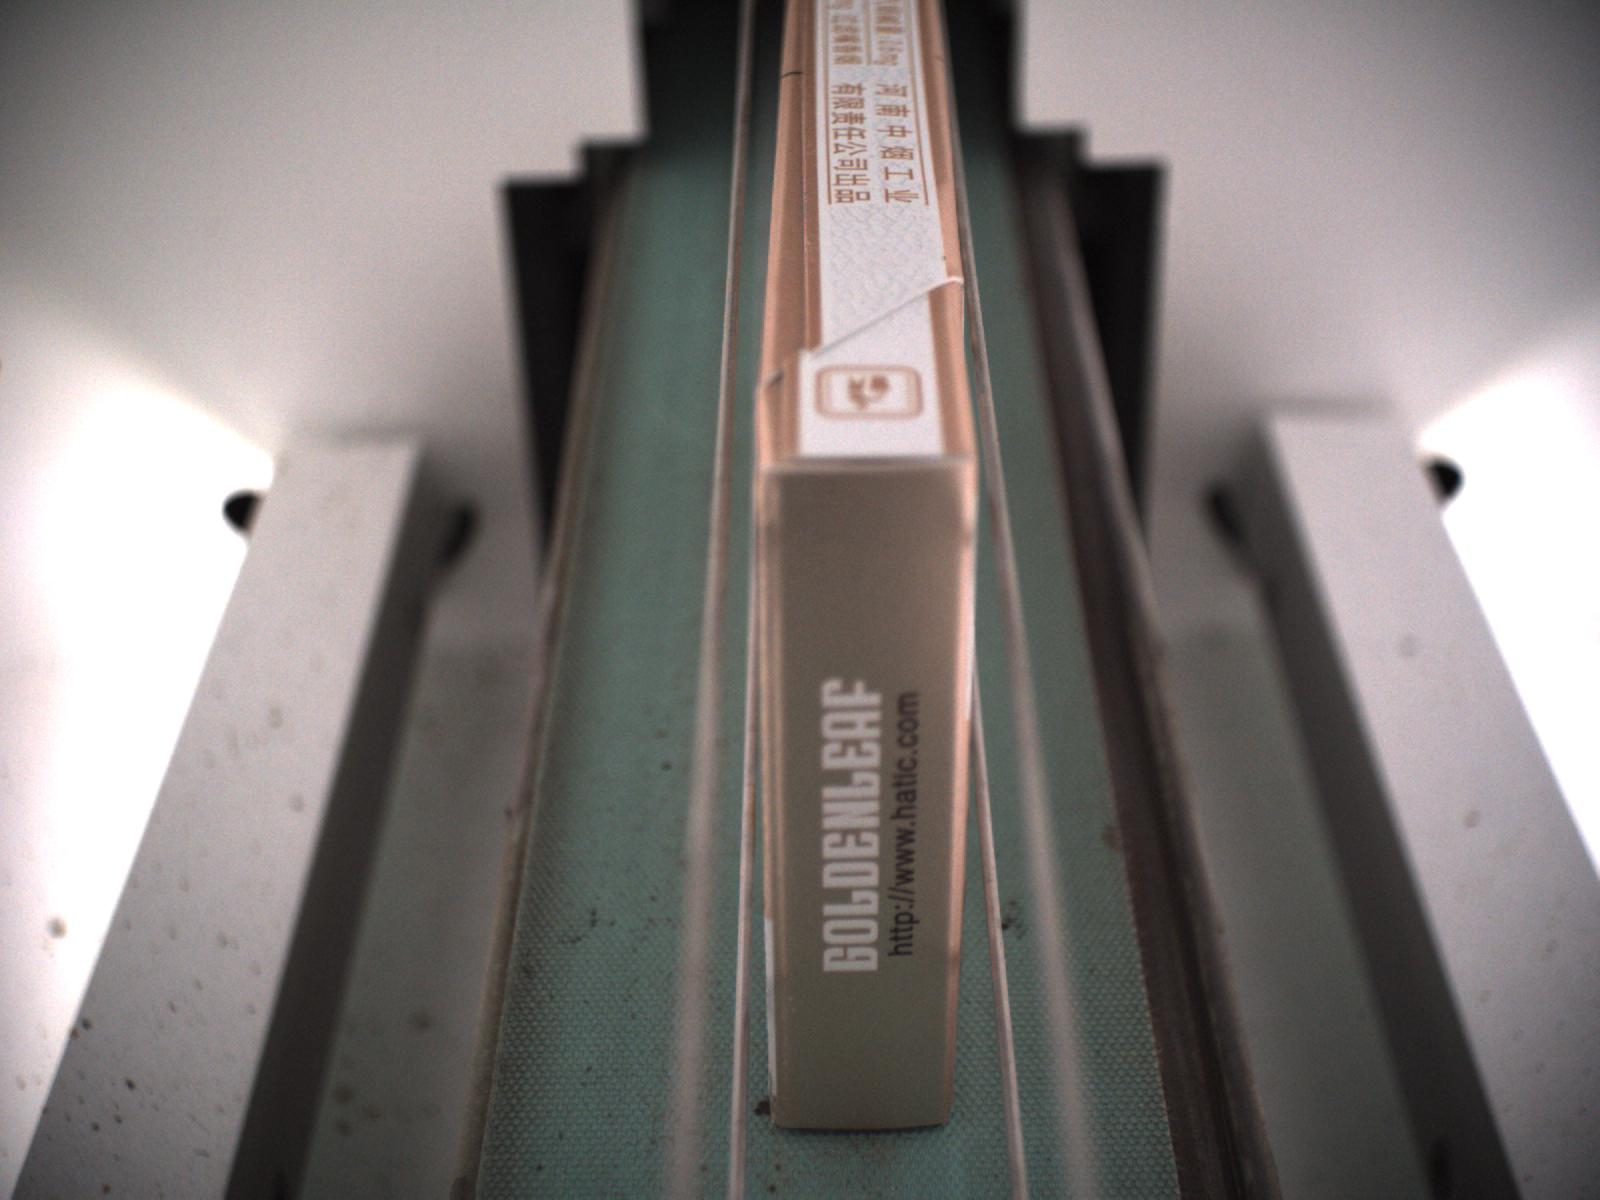boxDamage_back_heavy: (763, 37, 831, 388)
